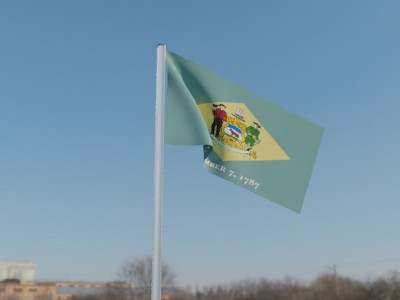Delaware flag: (166, 47, 326, 215)
